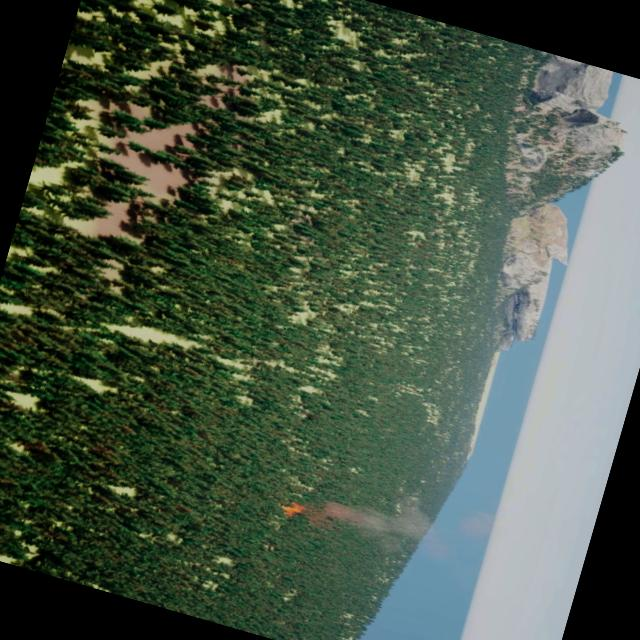fire: (281, 498, 314, 522)
smoke: (304, 467, 492, 570)
